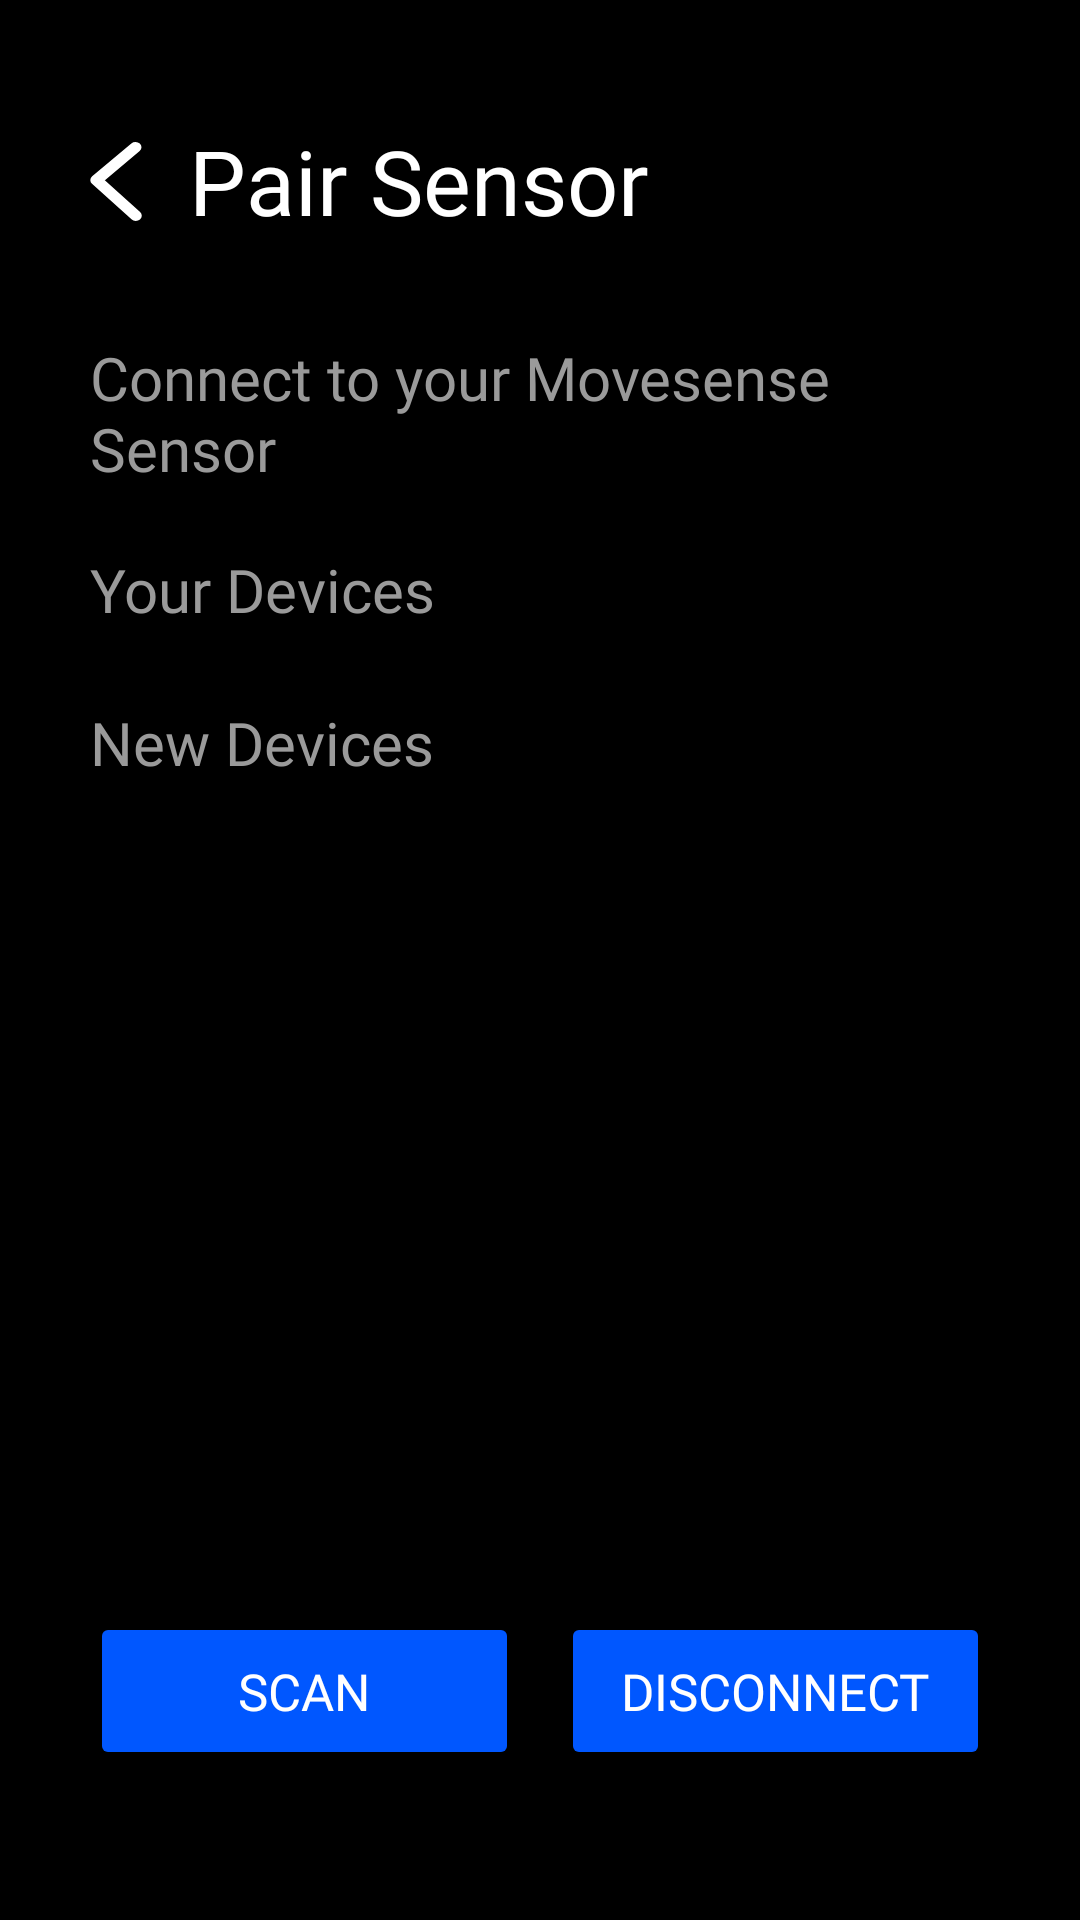

Named icons in this screenshot (1080×1920) and their bounding boxes, (x1, y1, x2, y2):
back: (90, 142, 142, 221)
